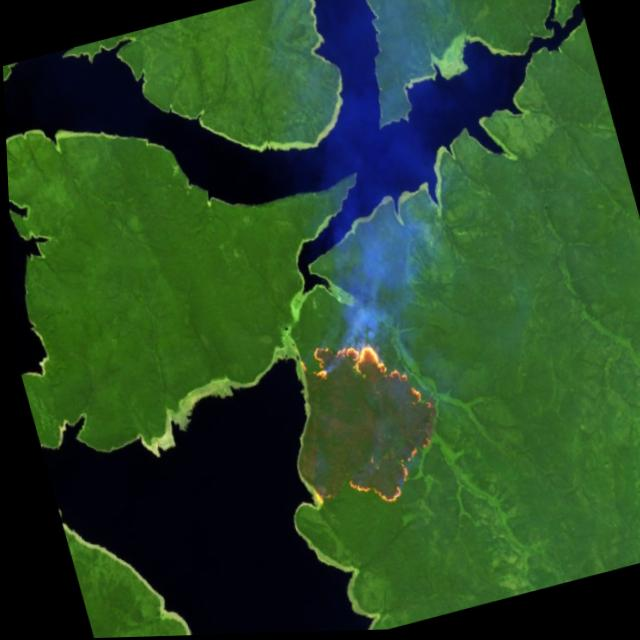fire: (255, 317, 454, 524)
